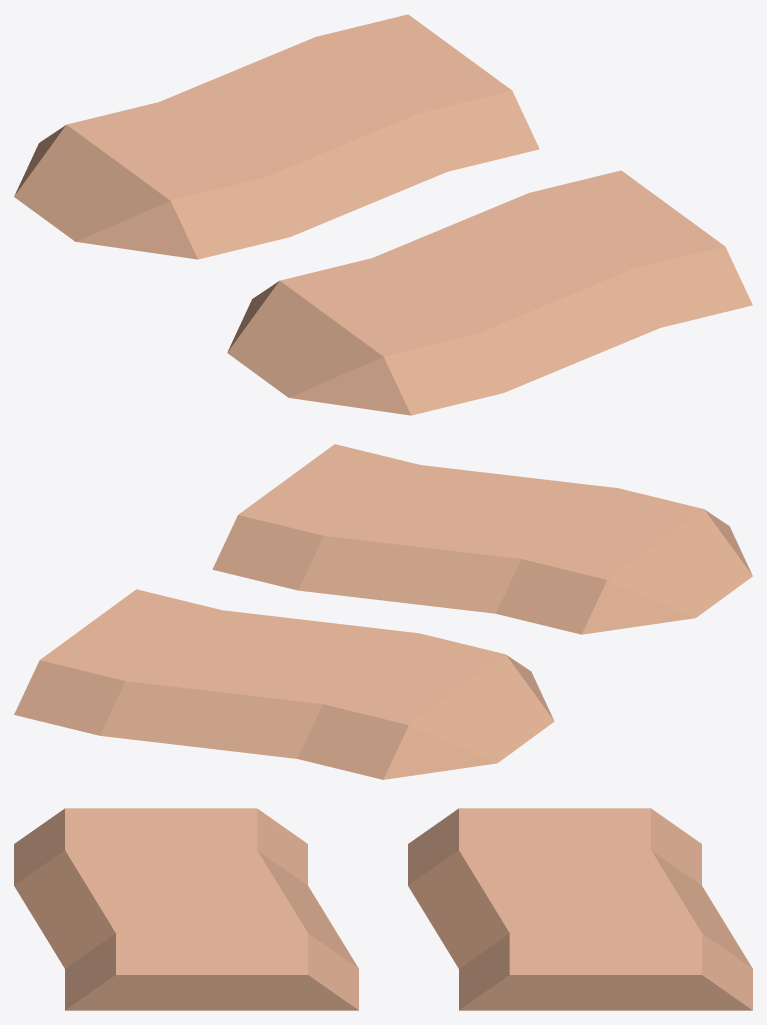
Rendered from crops_dirtDoubleRowEnd.glb.
3 renders of one model, top to bottom at view 1: azimuth 30°, elevation 25°; view 2: azimuth 150°, elevation 25°; view 3: azimuth 270°, elevation 25°, orthographic. The views are drawn at different scales.
Parts seen in each view (by area): view 1: crops_dirtDoubleRowEnd; view 2: crops_dirtDoubleRowEnd; view 3: crops_dirtDoubleRowEnd.
Part boxes in pixels (left/top/right/bottom): crops_dirtDoubleRowEnd: left=14, top=14, right=752, bottom=415; crops_dirtDoubleRowEnd: left=14, top=444, right=752, bottom=779; crops_dirtDoubleRowEnd: left=14, top=808, right=752, bottom=1010.
Size of the model in its own units: 0.6 by 0.05 by 0.938.
